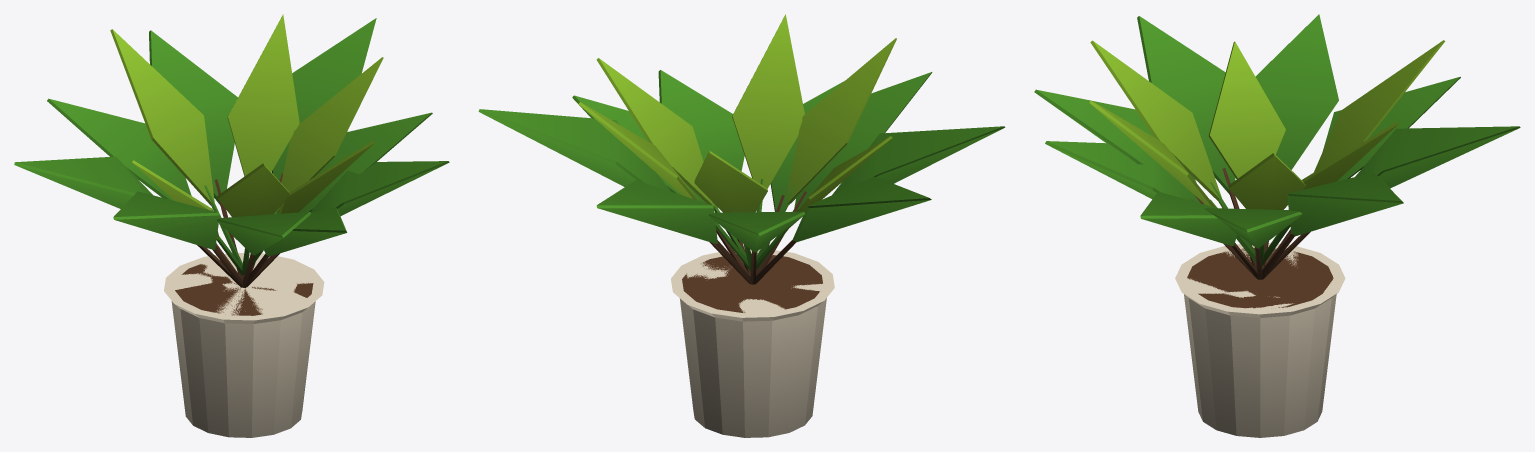
File: plant_pot_01.fbx
3 views of the same model, side by side, from view 1: azimuth 30°, elevation 25°; view 2: azimuth 150°, elevation 25°; view 3: azimuth 270°, elevation 25° (orthographic). The views are drawn at different scales.
Visible parts, largest first — view 1: plant_pot_01_LOD0; view 2: plant_pot_01_LOD0; view 3: plant_pot_01_LOD0.
Part boxes in pixels (left/top/right/bottom): plant_pot_01_LOD0: left=14, top=14, right=449, bottom=437; plant_pot_01_LOD0: left=478, top=14, right=1005, bottom=437; plant_pot_01_LOD0: left=1034, top=14, right=1520, bottom=437.
Size of what is drawn, in the model's own units: 1.26 by 0.9936 by 1.26.
Materials: 1 (1 with a texture image).
